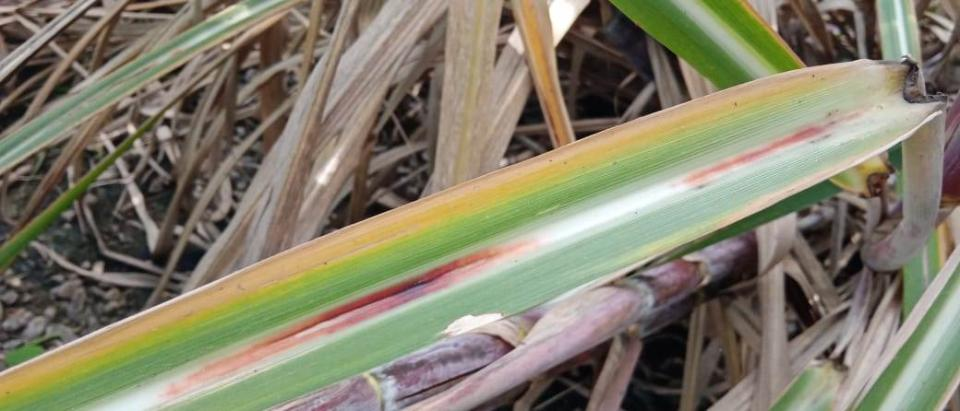RedRot: (158, 239, 548, 400), (671, 120, 833, 190)
Yellow: (0, 60, 874, 411)
